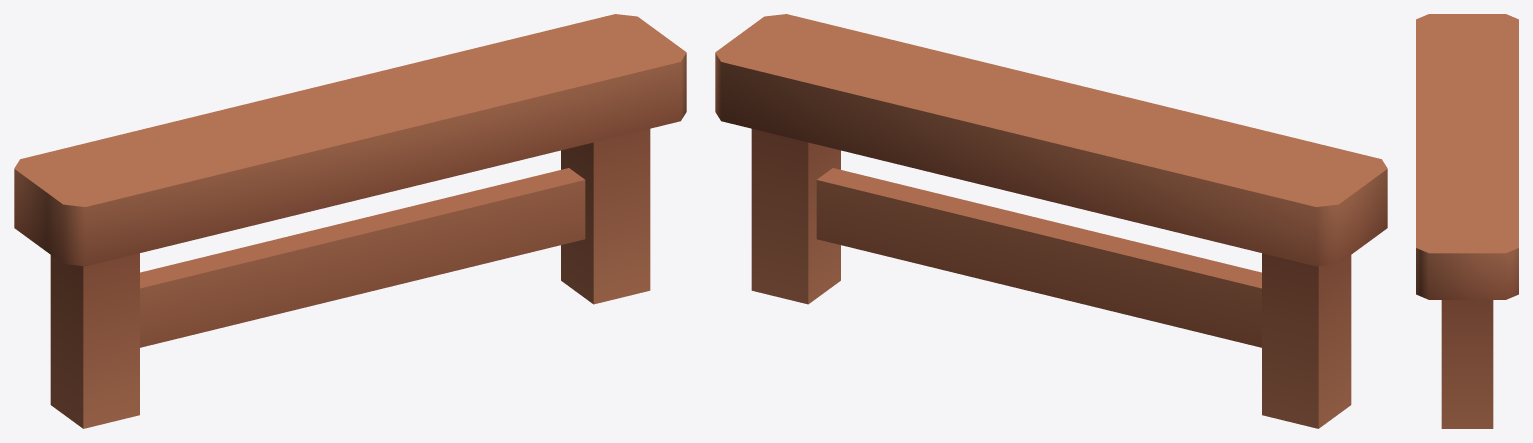
File: cabin-fence.glb
3 views of the same model, side by side, from view 1: azimuth 30°, elevation 25°; view 2: azimuth 150°, elevation 25°; view 3: azimuth 270°, elevation 25° (orthographic). The views are drawn at different scales.
Visible parts, largest first — view 1: cabin-fence; view 2: cabin-fence; view 3: cabin-fence.
Boxes of the visible parts, bbox=[...] form: cabin-fence: bbox=[14, 14, 686, 428]; cabin-fence: bbox=[715, 14, 1387, 428]; cabin-fence: bbox=[1416, 14, 1518, 428].
Size of the model in its own units: 1.1 by 0.4 by 0.2.
